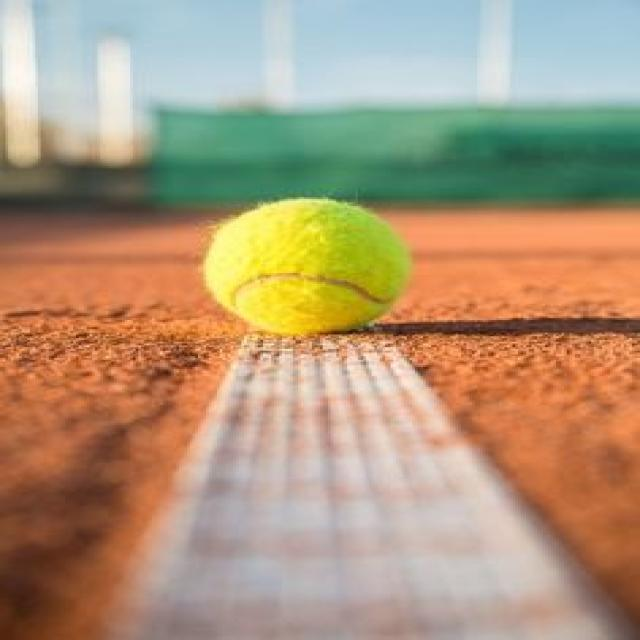tennis: (207, 201, 416, 334)
